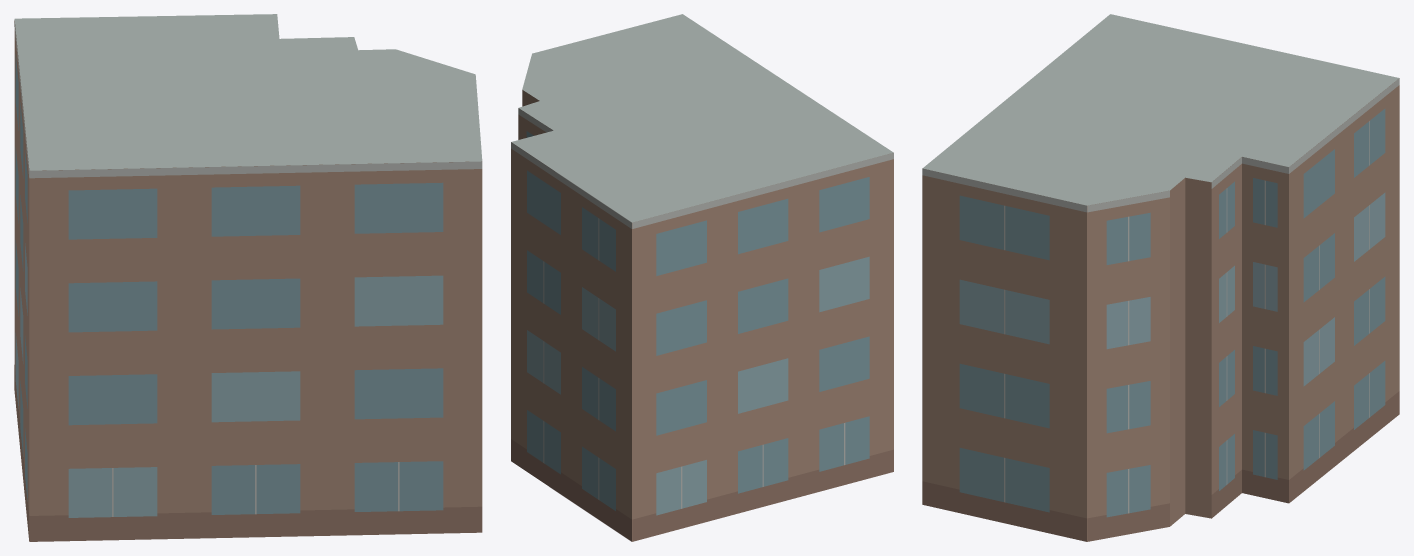
Rendered from survey-upis-32680698.glb.
The picture shows the model from 3 angles, left to right: view 1: azimuth 30°, elevation 25°; view 2: azimuth 150°, elevation 25°; view 3: azimuth 270°, elevation 25°; orthographic projection. The views are drawn at different scales.
Visible parts, largest first — view 1: survey-upis-32680698.tmp; view 2: survey-upis-32680698.tmp; view 3: survey-upis-32680698.tmp.
Boxes of the visible parts, left/top/right/bottom form: survey-upis-32680698.tmp: left=14, top=14, right=482, bottom=541; survey-upis-32680698.tmp: left=511, top=14, right=893, bottom=541; survey-upis-32680698.tmp: left=922, top=14, right=1399, bottom=541.
Bounding box in the file's own units: 14.66 × 11.99 × 15.43.
